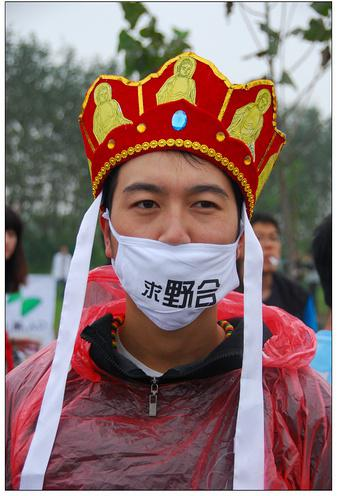NONE: (248, 230, 285, 271)
WRONG: (109, 167, 240, 310)
